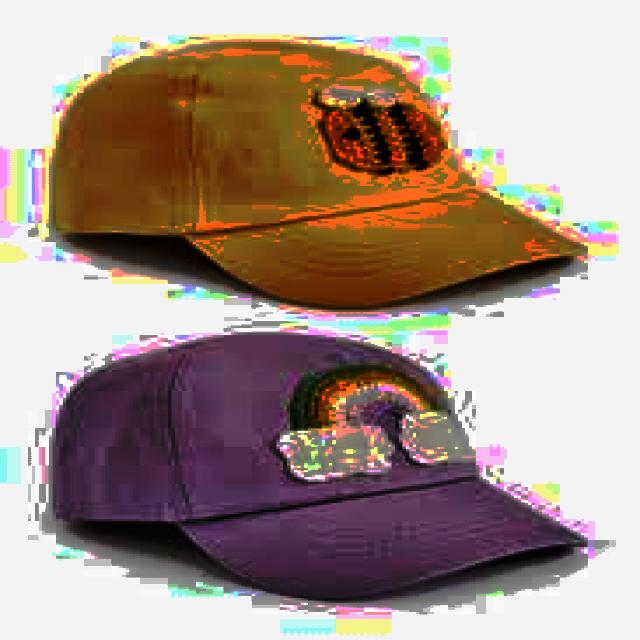TOPI: (31, 17, 600, 320), (48, 331, 595, 625)
